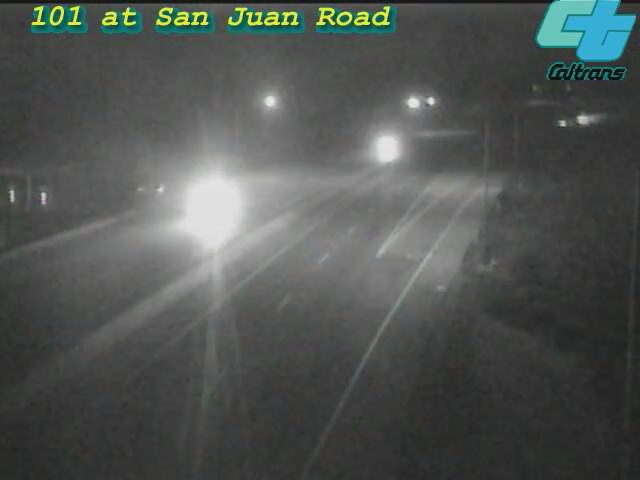vehicle: (166, 169, 246, 249), (361, 124, 411, 174), (563, 94, 613, 144), (538, 97, 588, 147)
